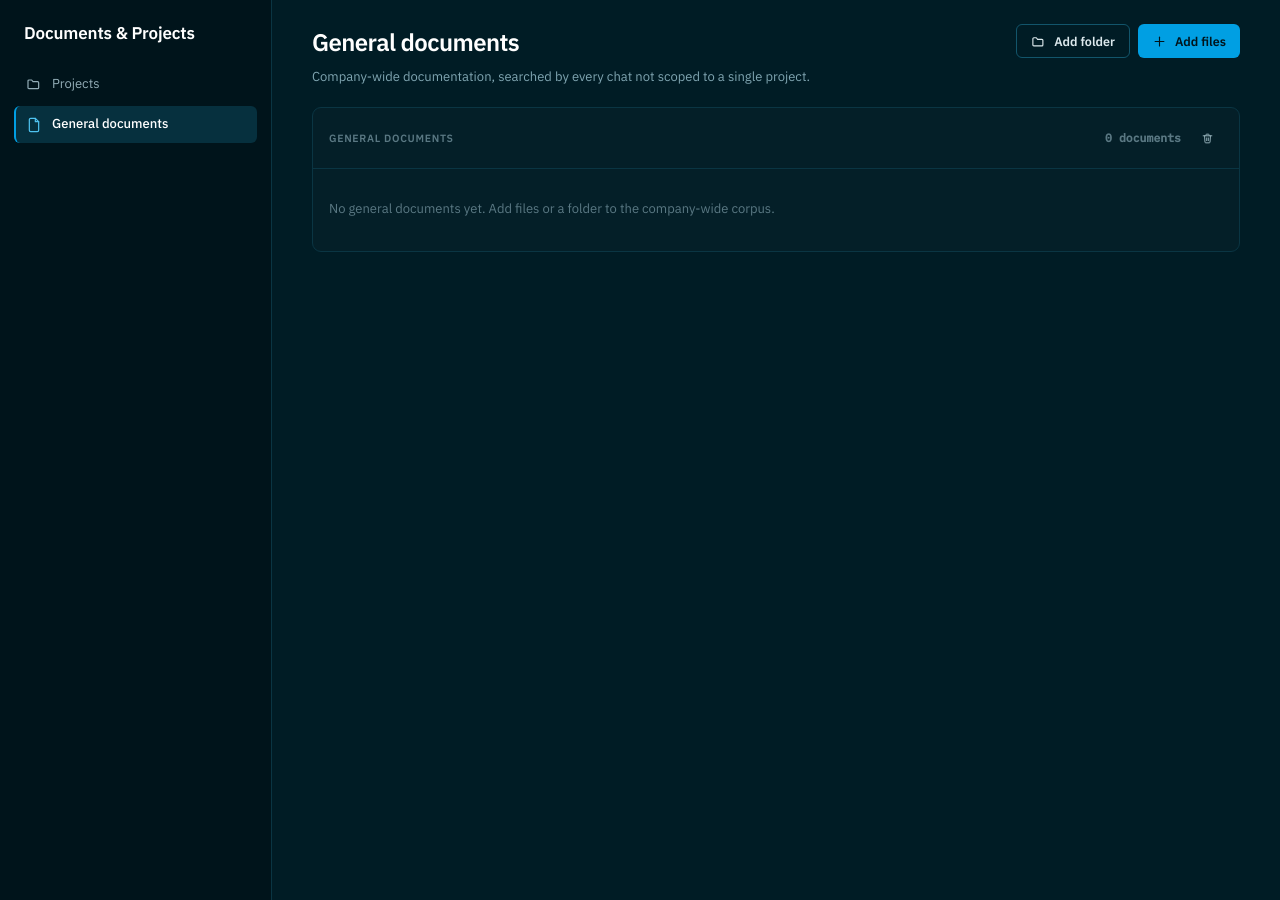
Scenario: GeneralDocumentsPage › reports a network failure through the notification stack instead of doing nothing
What coordinates should you click on to do the following:
click the button "Add files"
I would click on:
 (1189, 41)
Its box is [1138,24,1240,58].
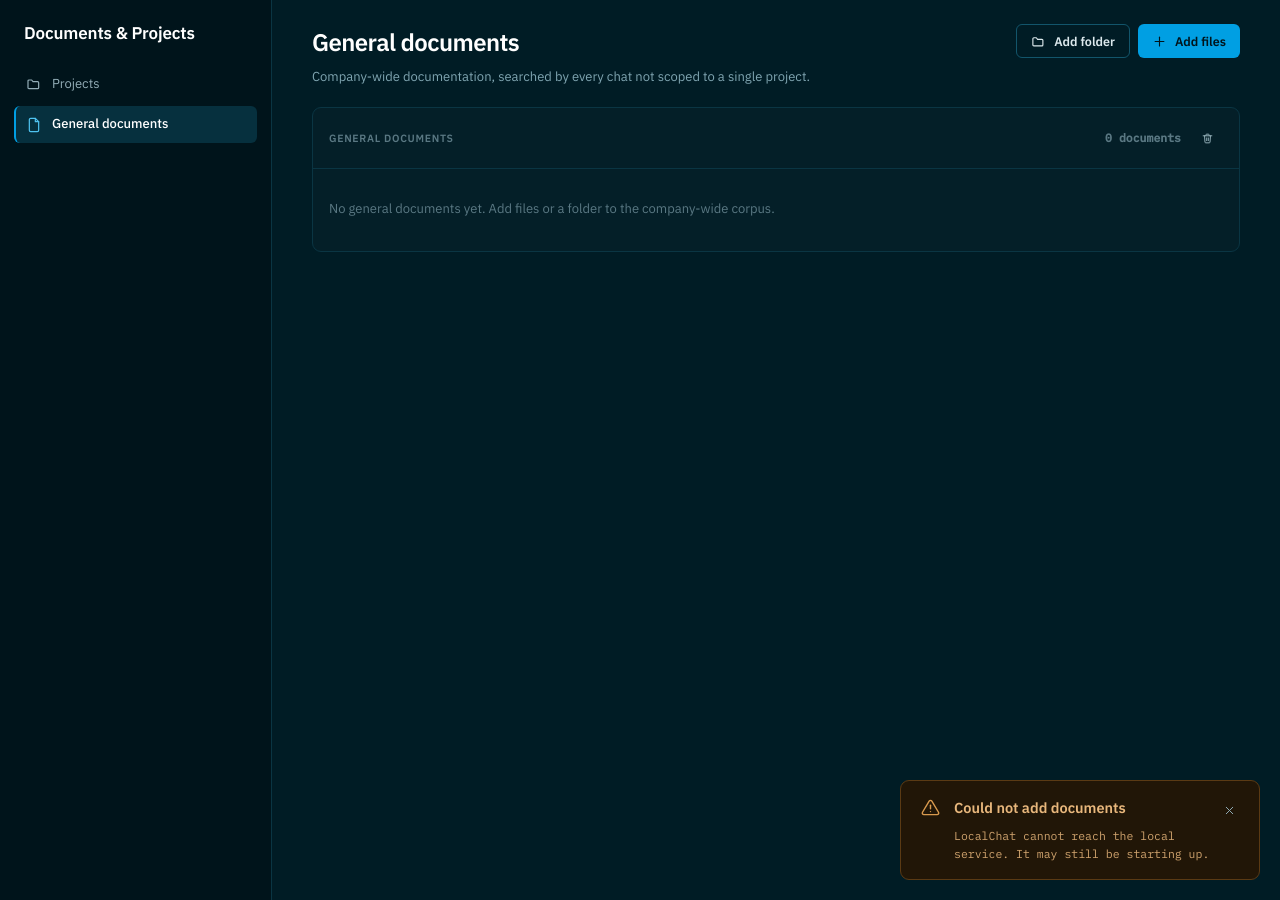
Now the text "Could not add documents" is shown, box [954,798,1126,817]
